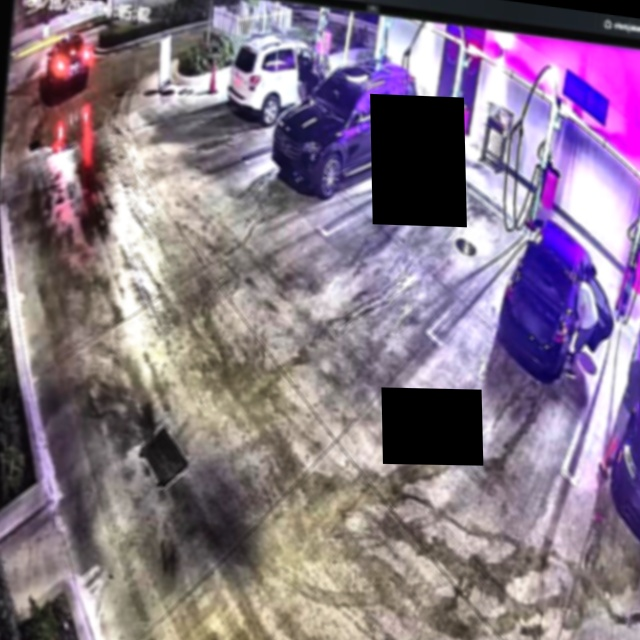Car: (266, 48, 428, 210)
